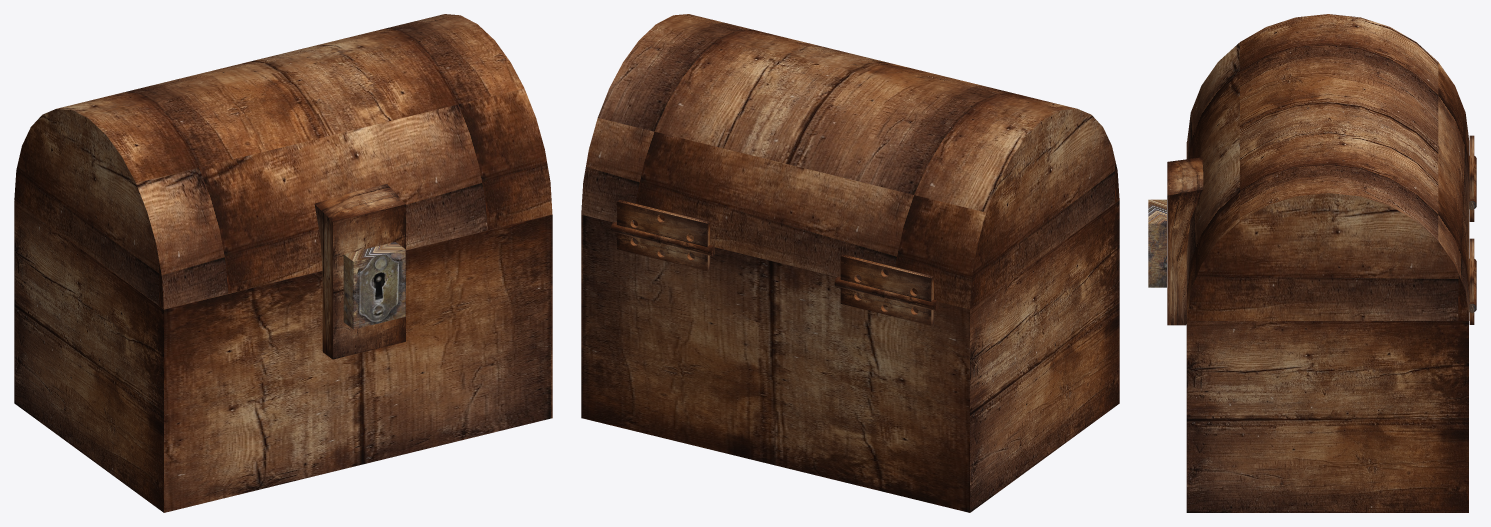
Rendered from Chest.fbx.
3 renders of one model, left to right at view 1: azimuth 30°, elevation 25°; view 2: azimuth 150°, elevation 25°; view 3: azimuth 270°, elevation 25°, orthographic. The views are drawn at different scales.
Visible parts, largest first — view 1: Lid, ChestBody; view 2: Lid, ChestBody; view 3: Lid, ChestBody.
Part boxes in pixels (bbox=[...]): Lid: bbox=[14, 14, 552, 359]; ChestBody: bbox=[14, 200, 552, 512]; Lid: bbox=[581, 14, 1119, 325]; ChestBody: bbox=[581, 200, 1119, 512]; Lid: bbox=[1148, 14, 1476, 325]; ChestBody: bbox=[1186, 142, 1468, 512].
Bounding box in the file's own units: 60 × 50.03 × 46.55.
2 materials, 2 textured.
